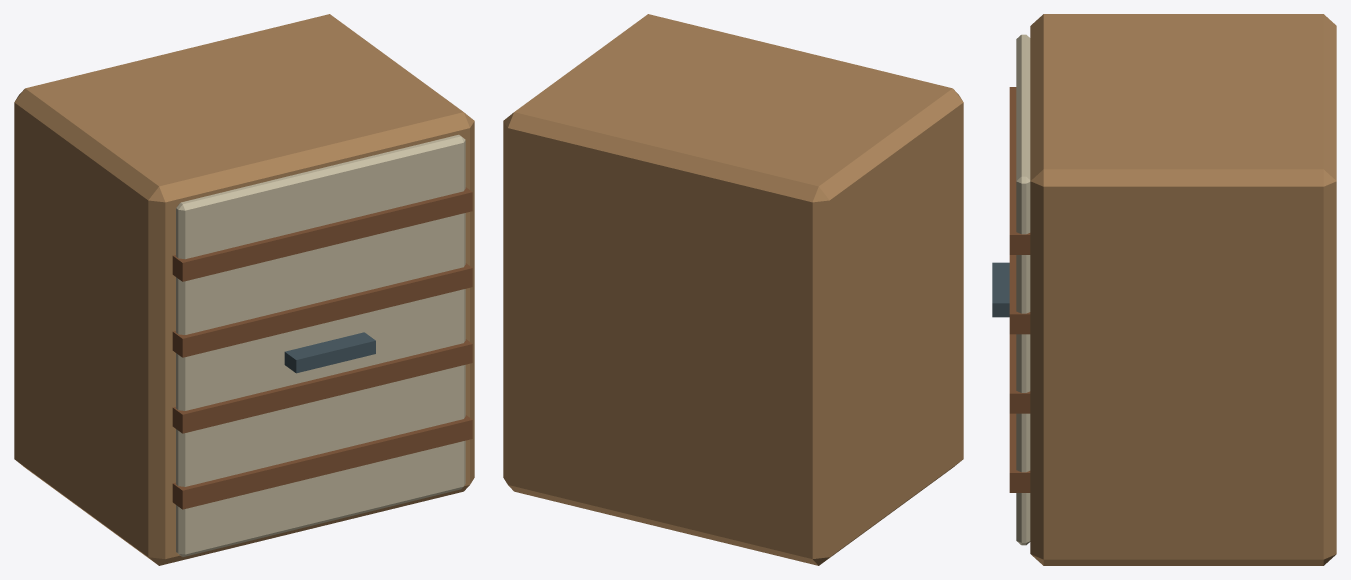
File: compost_bin.glb
The picture shows the model from 3 angles, left to right: view 1: azimuth 30°, elevation 25°; view 2: azimuth 150°, elevation 25°; view 3: azimuth 270°, elevation 25°; orthographic projection. The views are drawn at different scales.
Parts seen in each view (by area): view 1: compost_bin; view 2: compost_bin; view 3: compost_bin.
Part boxes in pixels (x1=…): compost_bin: x1=14, y1=14, x2=474, y2=565; compost_bin: x1=503, y1=14, x2=963, y2=565; compost_bin: x1=992, y1=14, x2=1336, y2=565.
Bounding box in the file's own units: 0.9 × 1 × 0.7875.
